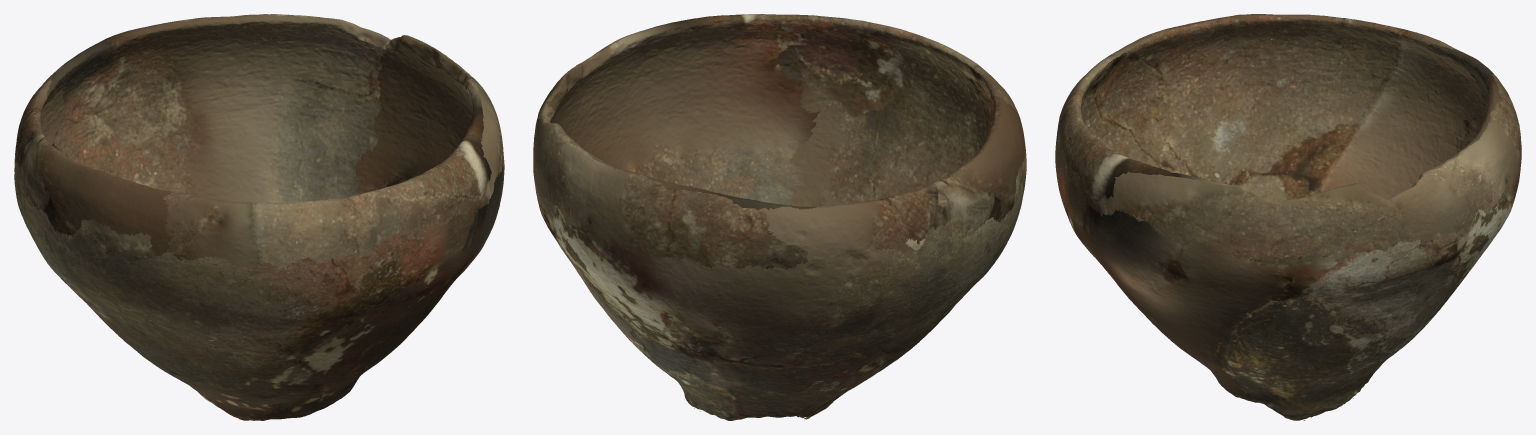
3 renders of one model, left to right at view 1: azimuth 30°, elevation 25°; view 2: azimuth 150°, elevation 25°; view 3: azimuth 270°, elevation 25°, orthographic. The views are drawn at different scales.
Bounding box in the file's own units: 0.3132 × 0.2165 × 0.3126.
